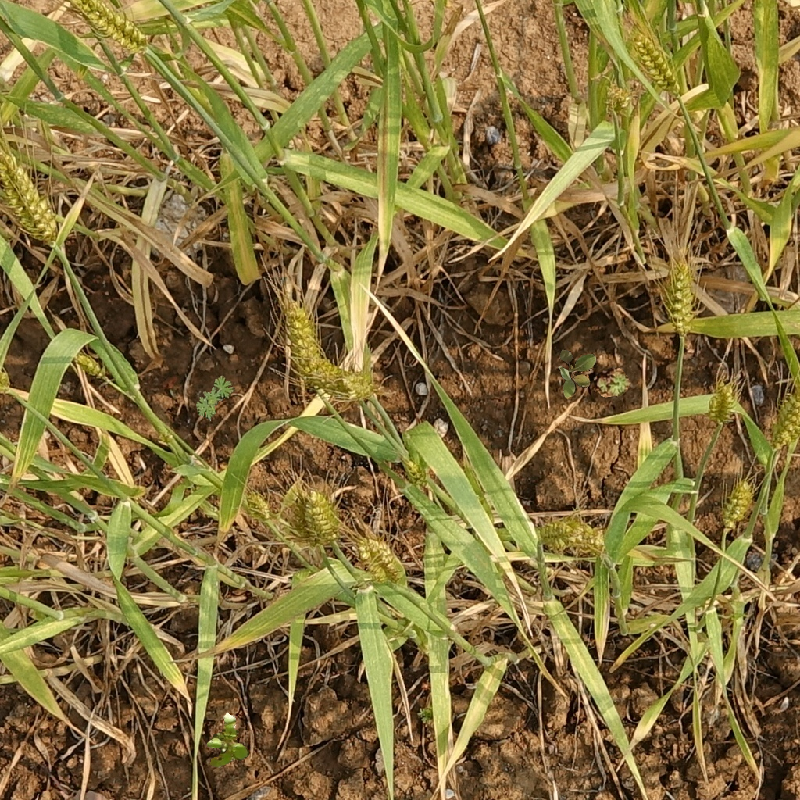spikelet: (1, 154, 61, 245), (72, 1, 149, 56), (279, 296, 323, 382), (630, 24, 682, 96), (356, 534, 408, 588), (536, 516, 607, 555), (663, 257, 699, 331), (304, 487, 344, 547), (718, 477, 757, 531), (767, 389, 800, 448), (705, 378, 739, 425), (340, 367, 377, 405), (239, 487, 274, 525), (74, 349, 109, 386), (193, 385, 225, 420), (602, 369, 631, 398)
weed: (201, 709, 251, 770), (555, 344, 603, 401), (192, 373, 241, 423), (591, 365, 633, 400)
